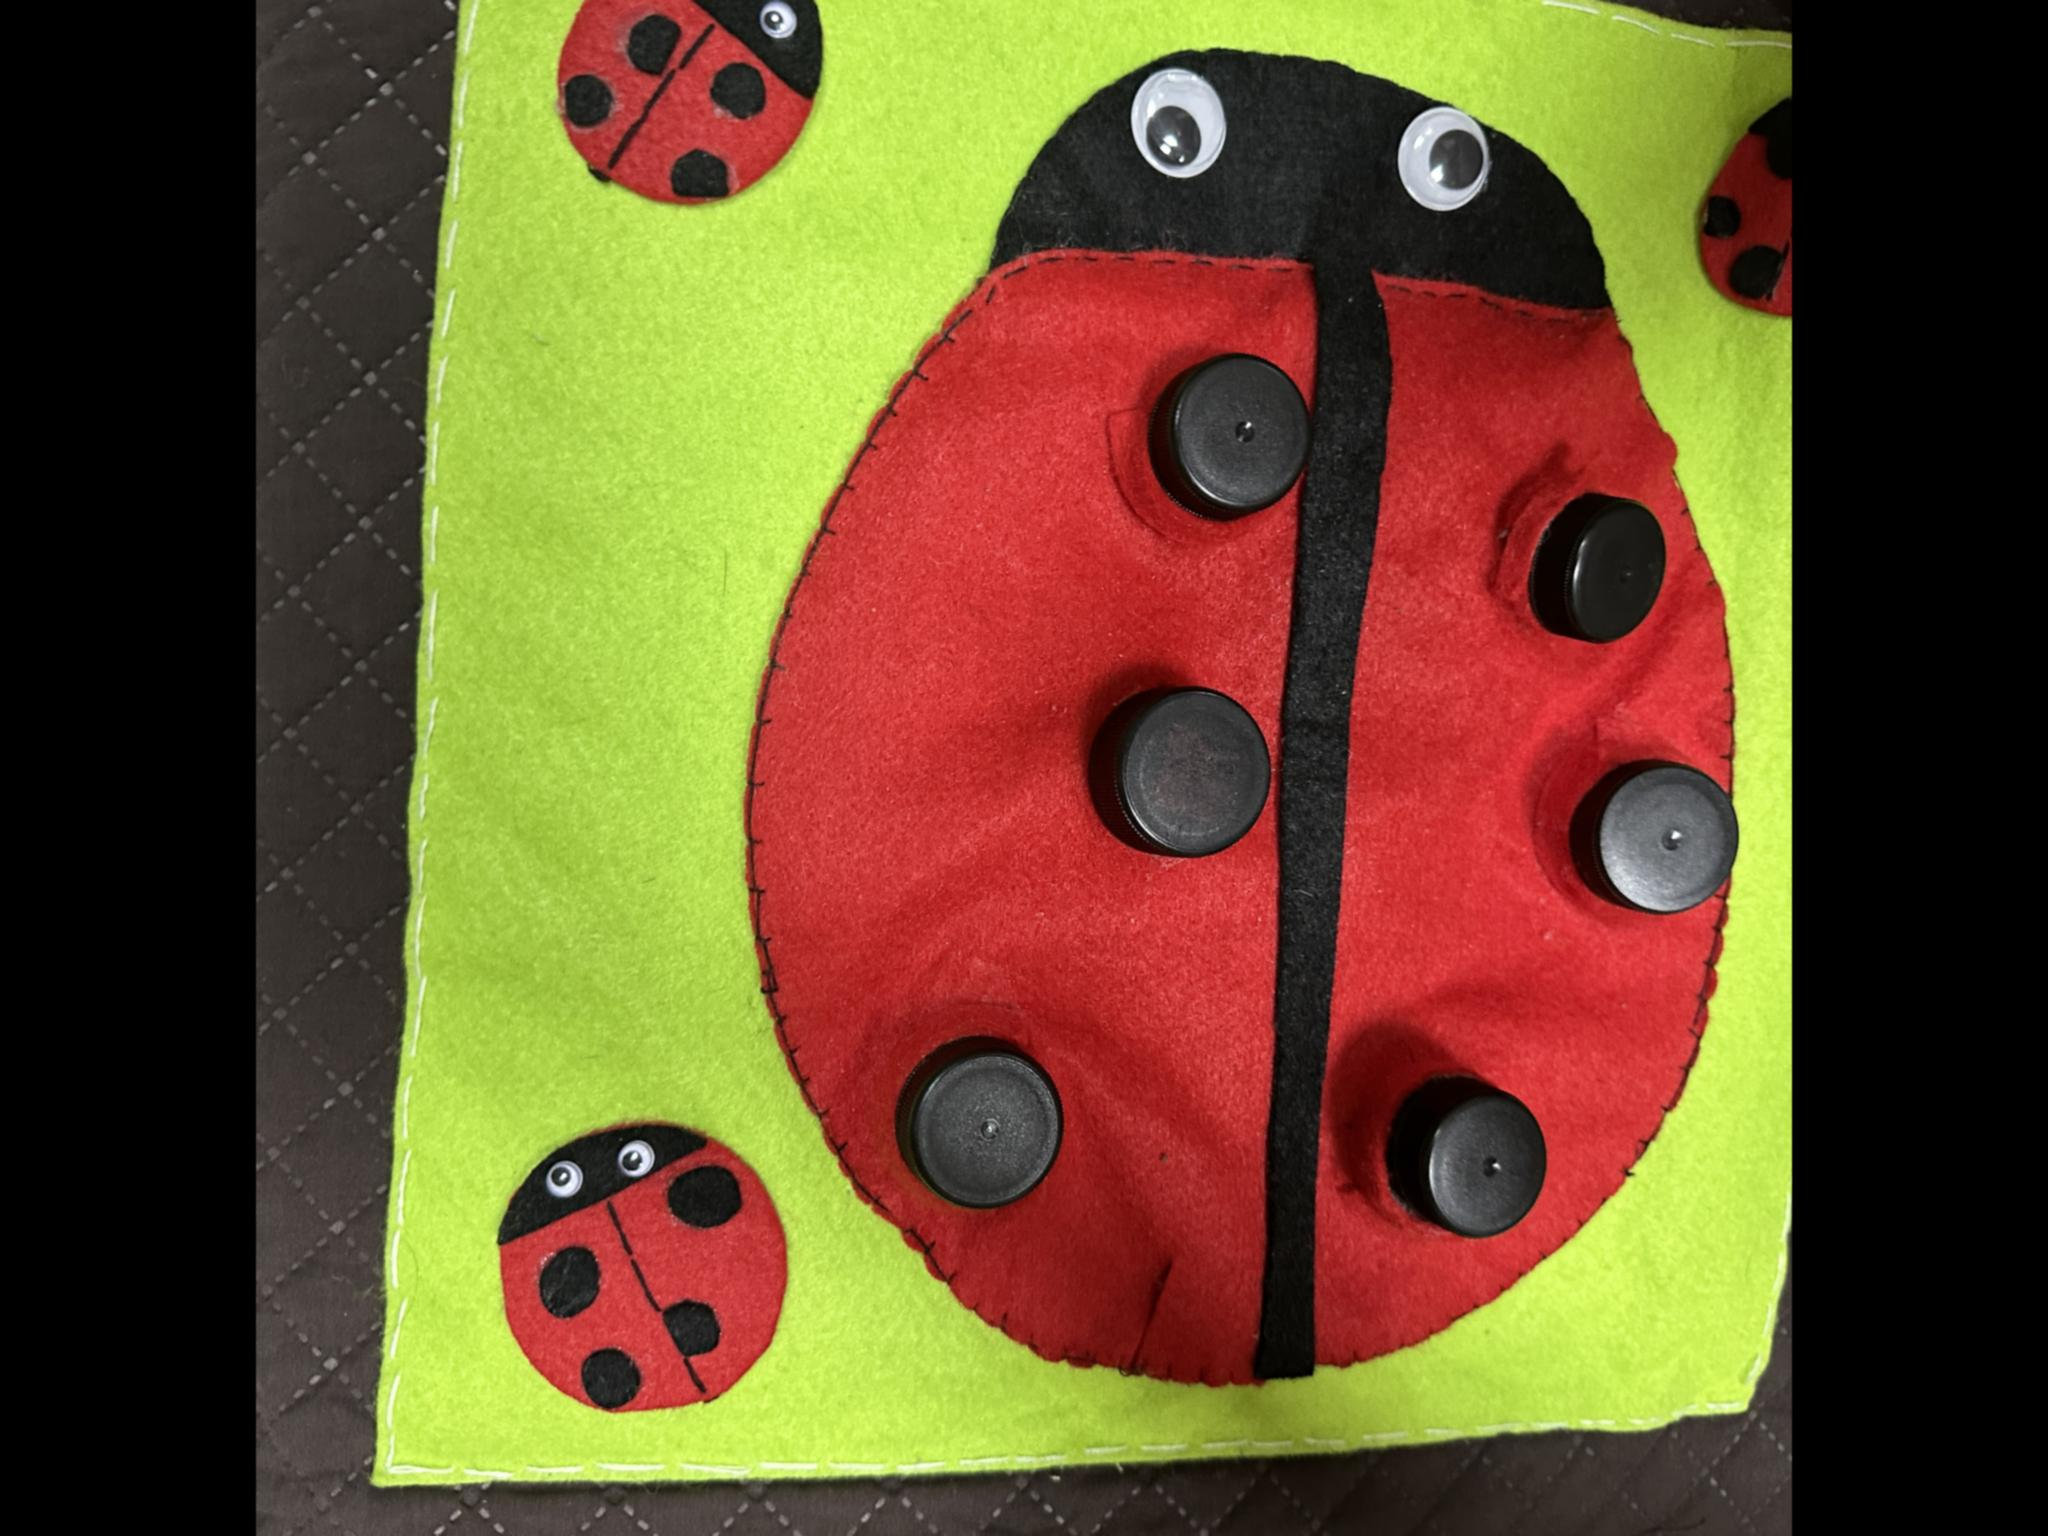cap_ok: (1069, 650, 1287, 878), (1095, 352, 1326, 547), (1485, 466, 1695, 679), (866, 1021, 1082, 1226), (1351, 1052, 1563, 1257), (1542, 742, 1748, 944)
